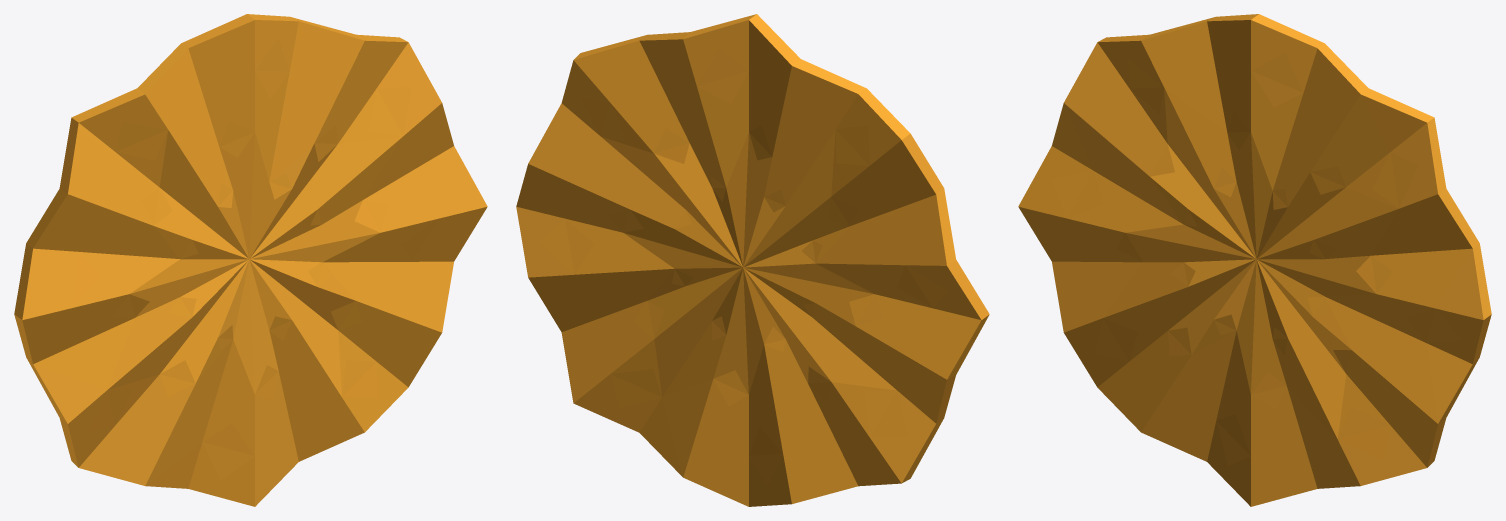
File: SM_Decor_Circle_C_4july.fbx
3 renders of one model, left to right at view 1: azimuth 30°, elevation 25°; view 2: azimuth 150°, elevation 25°; view 3: azimuth 330°, elevation 25°, orthographic.
Visible parts, largest first — view 1: decor-circle-c-4july; view 2: decor-circle-c-4july; view 3: decor-circle-c-4july.
Boxes of the visible parts, x1,y1,x2,y2 form: decor-circle-c-4july: [14, 14, 487, 506]; decor-circle-c-4july: [516, 14, 989, 506]; decor-circle-c-4july: [1018, 14, 1491, 506].
Size of the model in its own units: 0.3305 by 0.3305 by 0.024.
